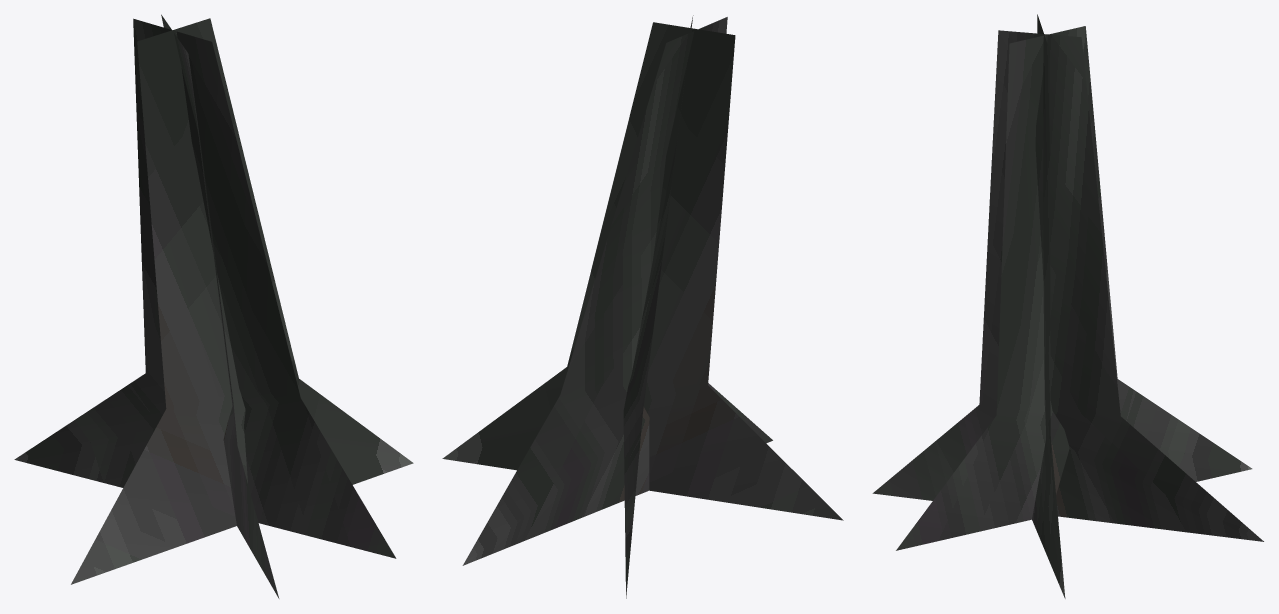
The model's file is INST_HTOWN_TREEB_LOD3.fbx.
The picture shows the model from 3 angles, left to right: view 1: azimuth 30°, elevation 25°; view 2: azimuth 150°, elevation 25°; view 3: azimuth 270°, elevation 25°; orthographic projection. The views are drawn at different scales.
Visible parts, largest first — view 1: INST_HTOWN_TREEB_LOD3; view 2: INST_HTOWN_TREEB_LOD3; view 3: INST_HTOWN_TREEB_LOD3.
Boxes of the visible parts, x1=… form: INST_HTOWN_TREEB_LOD3: x1=14, y1=14, x2=413, y2=598; INST_HTOWN_TREEB_LOD3: x1=442, y1=15, x2=843, y2=598; INST_HTOWN_TREEB_LOD3: x1=872, y1=14, x2=1263, y2=598.
Bounding box in the file's own units: 38242 × 48218 × 37509.
1 material, 1 textured.
